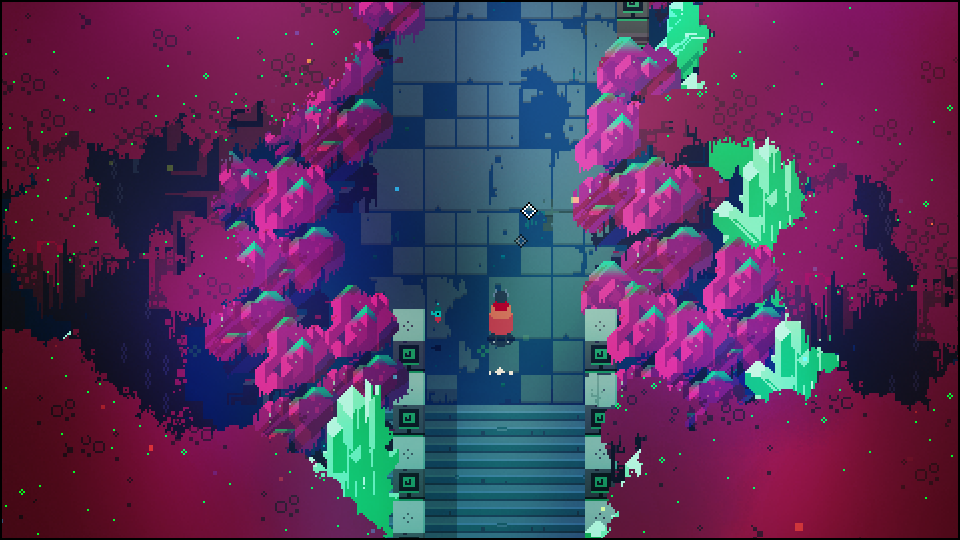player: (488, 290, 513, 337)
